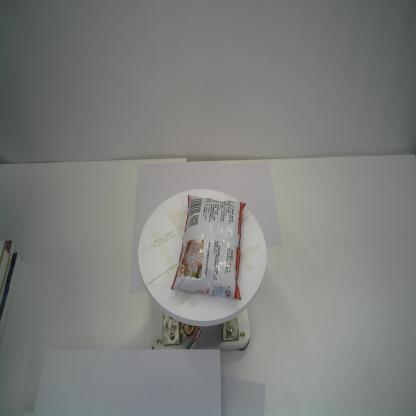Seasoner: (169, 194, 249, 304)
